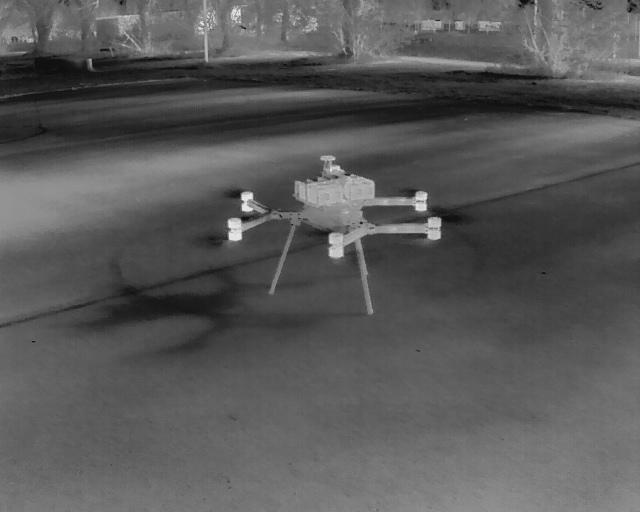drone: (187, 146, 458, 318)
